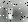person: (9, 9, 14, 20)
